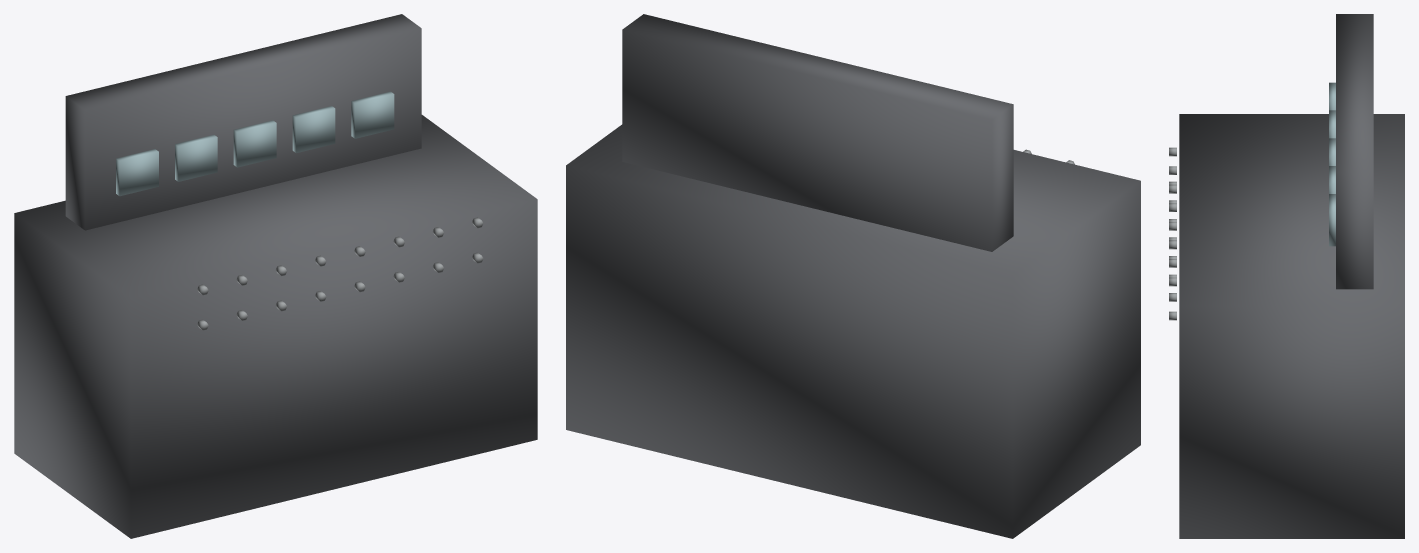
File: dispatch_console.glb
The picture shows the model from 3 angles, left to right: view 1: azimuth 30°, elevation 25°; view 2: azimuth 150°, elevation 25°; view 3: azimuth 270°, elevation 25°; orthographic projection. The views are drawn at different scales.
Visible parts, largest first — view 1: world; view 2: world; view 3: world.
Part boxes in pixels (x1,y1,x2,y2): world: [14, 14, 537, 538]; world: [566, 14, 1140, 538]; world: [1169, 14, 1404, 538].
Bounding box in the file's own units: 1.45 × 1.23 × 0.7525.
